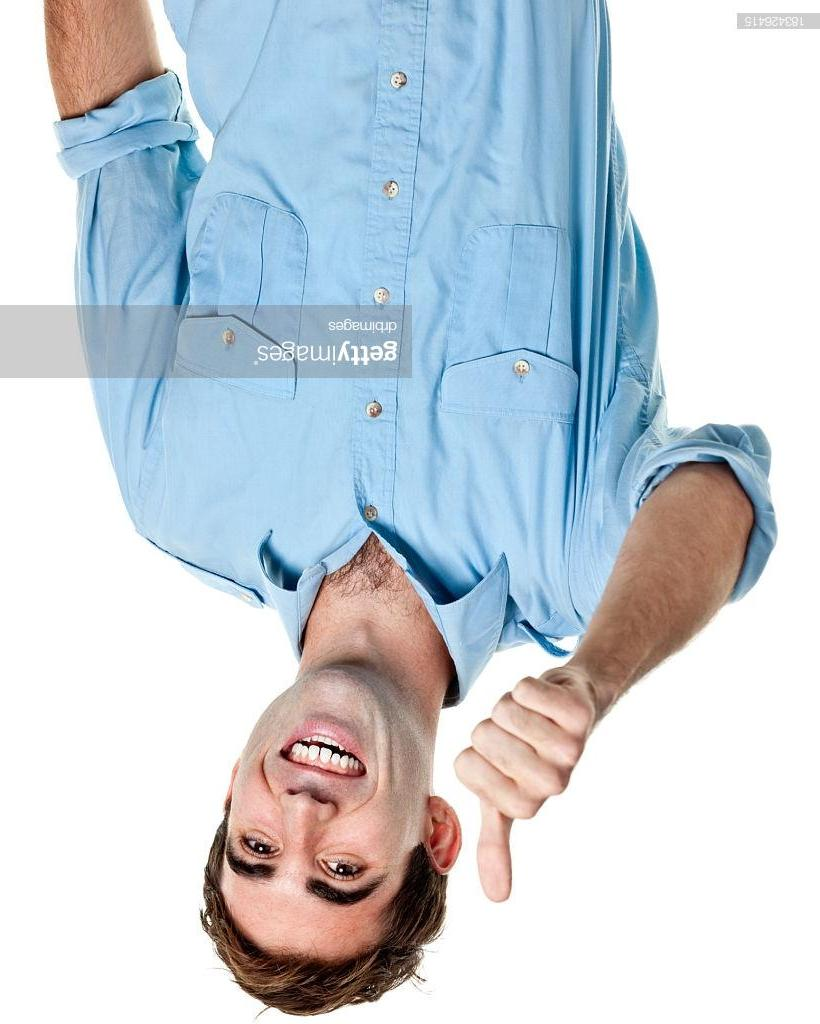thumbsdown: (453, 676, 596, 904)
